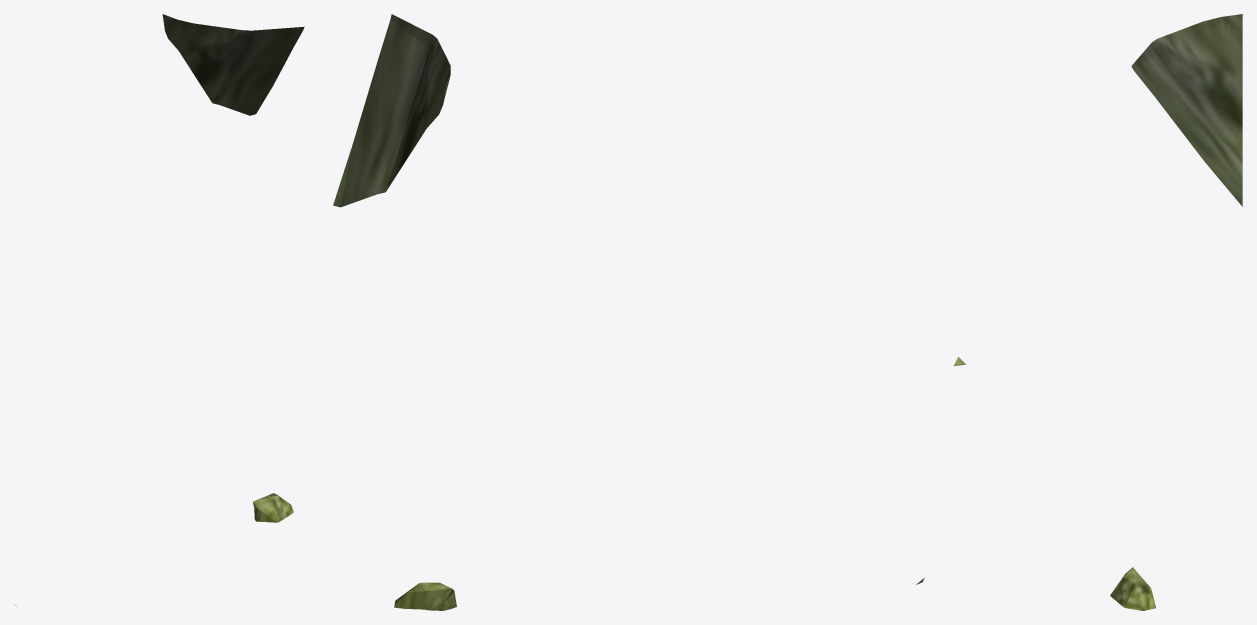
The picture shows the model from 3 angles, left to right: view 1: azimuth 30°, elevation 25°; view 2: azimuth 150°, elevation 25°; view 3: azimuth 270°, elevation 25°; orthographic projection. The views are drawn at different scales.
Size of the model in its own units: 2.35 by 2.95 by 1.41.
Materials: 1 (1 with a texture image).
